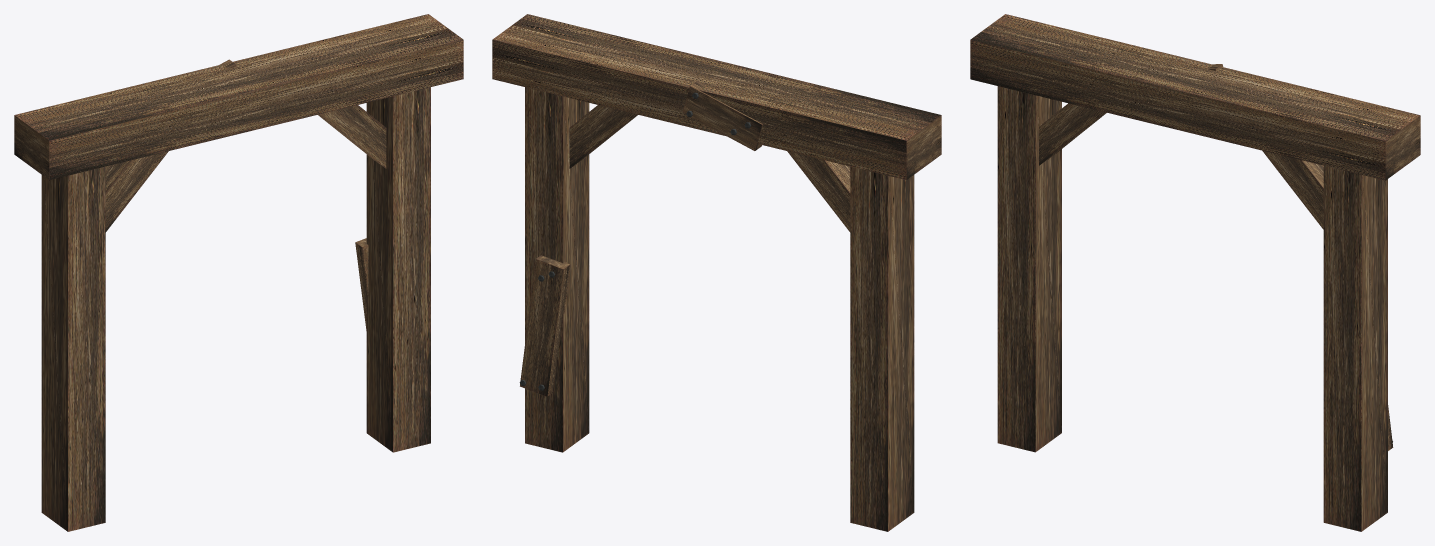
File: shaft1.fbx
3 views of the same model, side by side, from view 1: azimuth 30°, elevation 25°; view 2: azimuth 150°, elevation 25°; view 3: azimuth 330°, elevation 25° (orthographic).
Parts seen in each view (by area): view 1: shaft; view 2: shaft; view 3: shaft.
Boxes of the visible parts, x1,y1,x2,y2 form: shaft: (14,14,463,531); shaft: (492,14,941,531); shaft: (970,14,1420,531).
Size of the model in its own units: 947 by 879 by 147.
2 materials, 2 textured.
